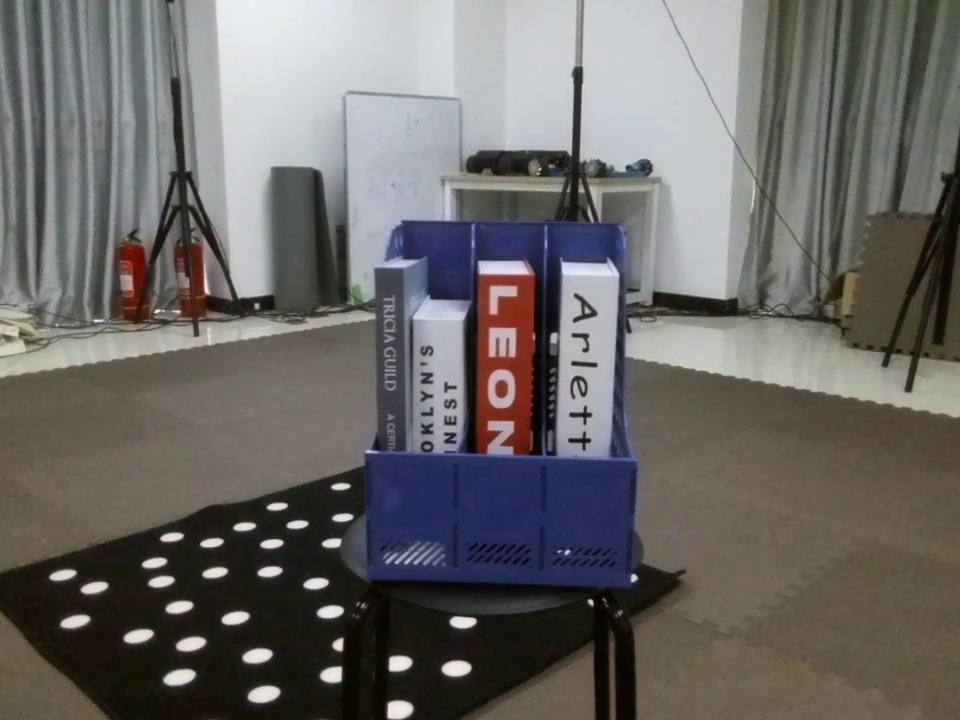files: (356, 209, 648, 595)
